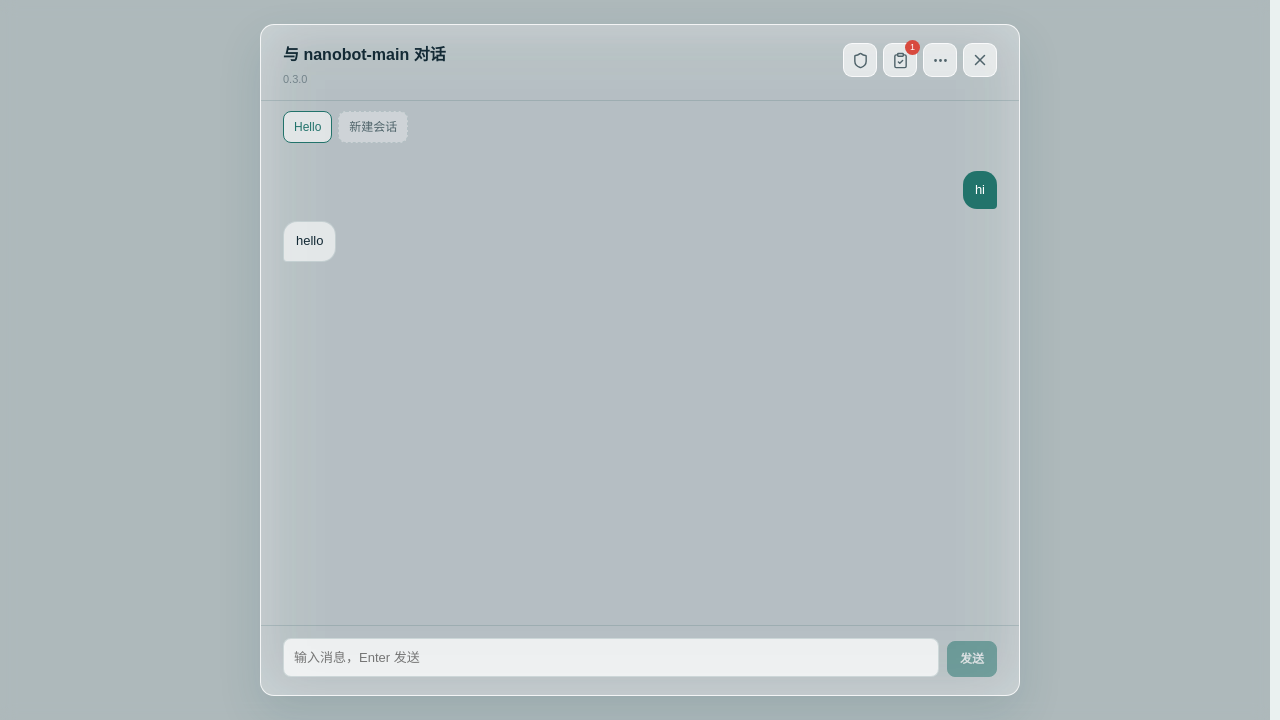
it: ChatDrawer › removes an operation already resolved by another approval view
Click the button named "待审批操作" at (900, 60), box [883,43,917,77]
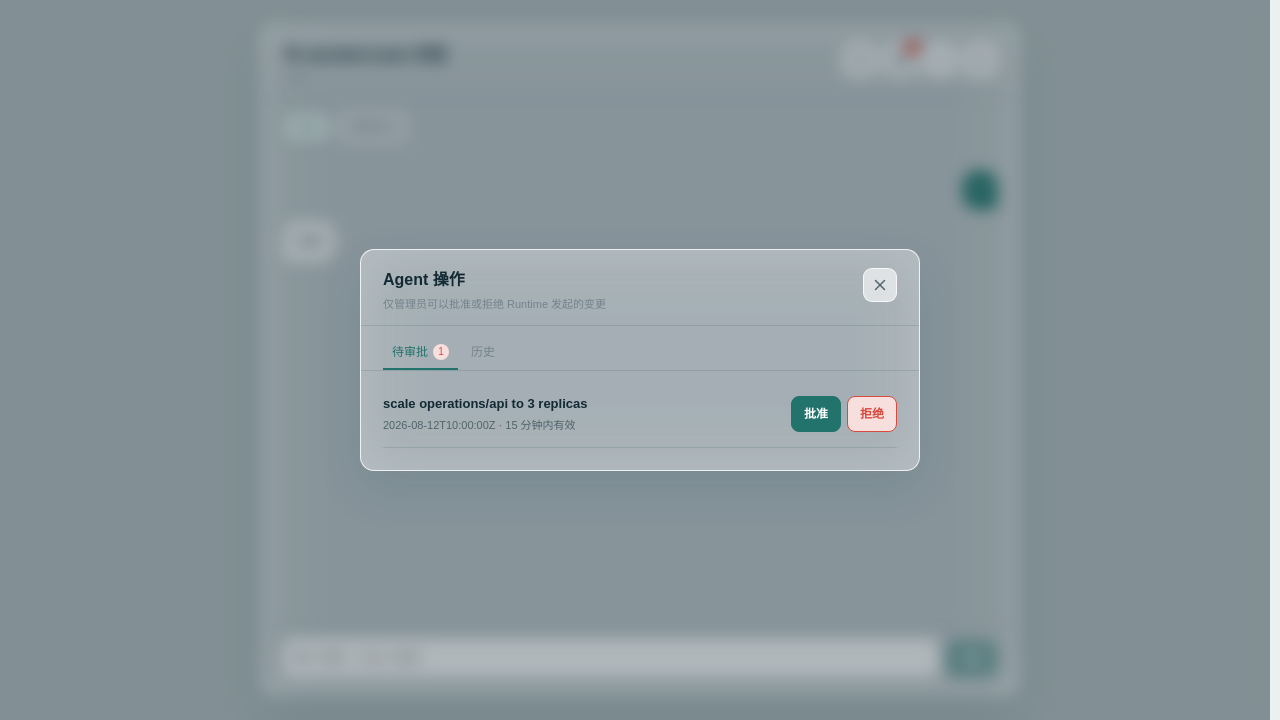
Click the button "批准" at (816, 414), box [791,396,841,432]
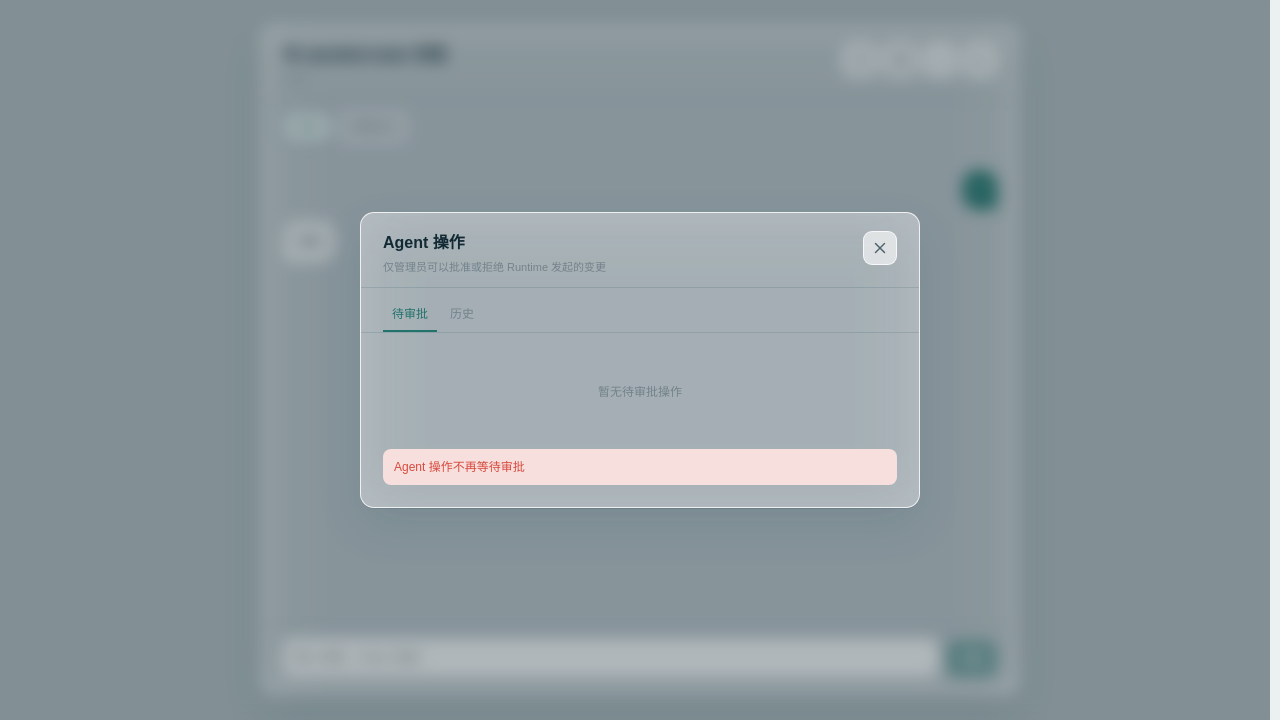
Result: the text "暂无待审批操作" is shown at [598,385,682,399]
